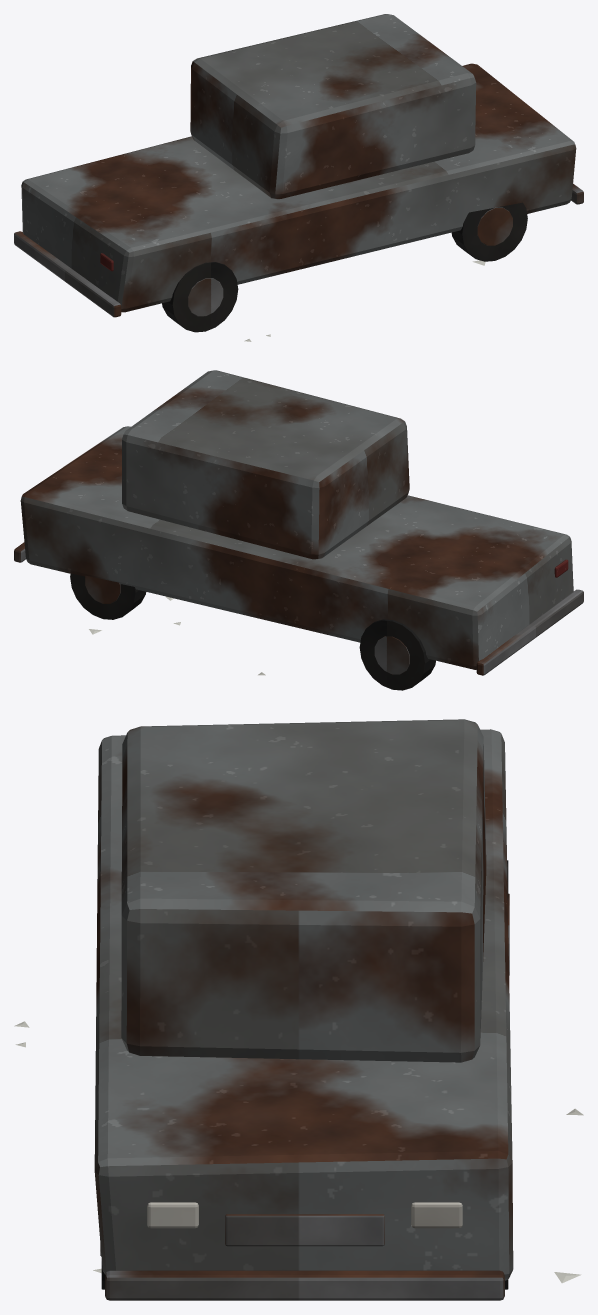
Rendered from JV01_crashed_car_front_v3.glb.
3 views of the same model, one above another, from view 1: azimuth 30°, elevation 25°; view 2: azimuth 150°, elevation 25°; view 3: azimuth 270°, elevation 25° (orthographic). The views are drawn at different scales.
Parts seen in each view (by area): view 1: JV01_crashed_car_front_v3; view 2: JV01_crashed_car_front_v3; view 3: JV01_crashed_car_front_v3.
Part boxes in pixels (x1,y1,x2,y2): JV01_crashed_car_front_v3: (14,14,583,341); JV01_crashed_car_front_v3: (14,370,583,690); JV01_crashed_car_front_v3: (14,719,583,1300).
Size of the model in its own units: 4.4 by 1.65 by 2.33.
6 materials, 6 textured.
